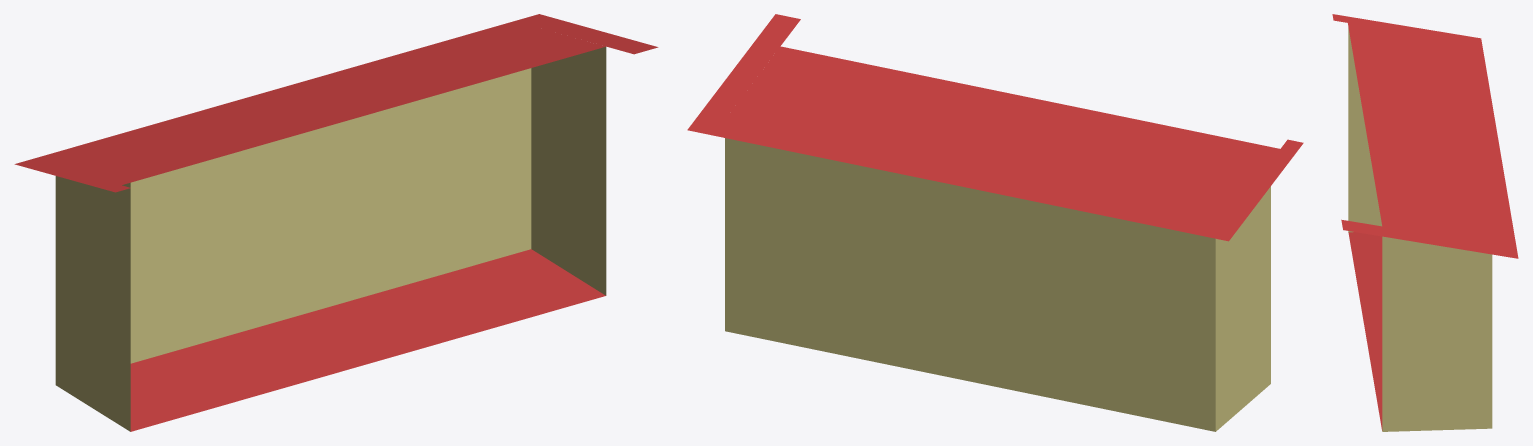
3 views of the same model, side by side, from view 1: azimuth 30°, elevation 25°; view 2: azimuth 150°, elevation 25°; view 3: azimuth 270°, elevation 25° (orthographic). The views are drawn at different scales.
Parts seen in each view (by area): view 1: group_5, group_6, group_3; view 2: group_5, group_3, group_4; view 3: group_3, group_5, group_6, group_4.
Part boxes in pixels (box(x1,y1,x2,y2)): group_5: box(55, 46, 606, 431); group_6: box(130, 249, 605, 431); group_3: box(14, 14, 658, 192); group_5: box(725, 138, 1270, 431); group_3: box(687, 14, 1303, 241); group_4: box(688, 18, 786, 129); group_3: box(1332, 14, 1518, 258); group_5: box(1348, 27, 1492, 431); group_6: box(1348, 232, 1382, 430); group_4: box(1348, 224, 1516, 258).
Size of the model in its own units: 16.22 by 5.65 by 7.15.
